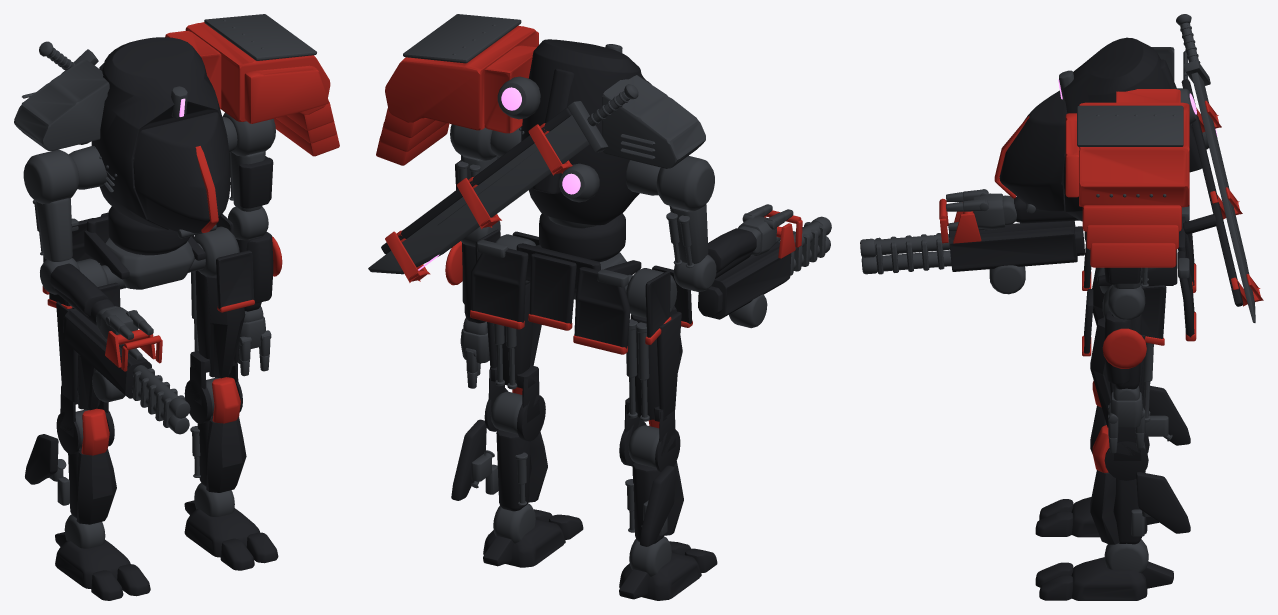
Rendered from Titan_L2.fbx.
3 renders of one model, left to right at view 1: azimuth 30°, elevation 25°; view 2: azimuth 150°, elevation 25°; view 3: azimuth 270°, elevation 25°, orthographic. The views are drawn at different scales.
Visible parts, largest first — view 1: L2_Torso_Upper, L2_Hatch, L2_Pauldron_L, L2_Shoulder_Cap_R, L2_Pauldron_Trim_L, L2_Pelvis, L2_Shotgun_Body, L2_Shin_Plate_R, L2_Shin_Plate_L, L2_UpperArm_Hub_R, L2_Thigh_Plate_L, L2_Waist (+40 smaller); view 2: L2_Skirt_Back, L2_Pauldron_L, L2_Torso_Upper, L2_Sword_Blade, L2_Shoulder_Cap_R, L2_Shotgun_Body, L2_Pauldron_Trim_L, L2_Waist, L2_Rack_Clamps, L2_UpperArm_Hub_R, L2_Pauldron_Lames_L, L2_Thigh_Clevis_L (+49 smaller); view 3: L2_Pauldron_L, L2_Pauldron_Lames_L, L2_Hatch, L2_Shotgun_Body, L2_Torso_Upper, L2_Pauldron_Trim_L, L2_Foot_L, L2_Sword_Blade, L2_Shotgun_Barrels, L2_Rack, L2_Calf_Blade_L, L2_Thigh_Clevis_L (+27 smaller).
Part boxes in pixels (x1=…): L2_Torso_Upper: x1=91, y1=37, x2=227, y2=229; L2_Hatch: x1=133, y1=112, x2=230, y2=233; L2_Pauldron_L: x1=165, y1=22, x2=330, y2=123; L2_Shoulder_Cap_R: x1=14, y1=60, x2=109, y2=150; L2_Pauldron_Trim_L: x1=204, y1=14, x2=316, y2=60; L2_Pelvis: x1=102, y1=238, x2=205, y2=289; L2_Shotgun_Body: x1=63, y1=308, x2=151, y2=398; L2_Shin_Plate_R: x1=76, y1=449, x2=116, y2=524; L2_Shin_Plate_L: x1=206, y1=417, x2=246, y2=492; L2_UpperArm_Hub_R: x1=23, y1=149, x2=78, y2=204; L2_Thigh_Plate_L: x1=206, y1=275, x2=245, y2=378; L2_Waist: x1=108, y1=206, x2=190, y2=255; L2_Skirt_Back: x1=471, y1=248, x2=630, y2=348; L2_Pauldron_L: x1=385, y1=25, x2=538, y2=133; L2_Torso_Upper: x1=521, y1=39, x2=648, y2=225; L2_Sword_Blade: x1=368, y1=115, x2=589, y2=274; L2_Shoulder_Cap_R: x1=602, y1=75, x2=705, y2=168; L2_Shotgun_Body: x1=698, y1=242, x2=791, y2=319; L2_Pauldron_Trim_L: x1=403, y1=14, x2=521, y2=63; L2_Waist: x1=539, y1=213, x2=625, y2=262; L2_Rack_Clamps: x1=385, y1=123, x2=572, y2=282; L2_UpperArm_Hub_R: x1=656, y1=155, x2=714, y2=211; L2_Pauldron_Lames_L: x1=376, y1=108, x2=449, y2=165; L2_Thigh_Clevis_L: x1=484, y1=365, x2=545, y2=441; L2_Pauldron_L: x1=1065, y1=89, x2=1189, y2=207; L2_Pauldron_Lames_L: x1=1082, y1=205, x2=1181, y2=267; L2_Hatch: x1=999, y1=90, x2=1067, y2=211; L2_Shotgun_Body: x1=949, y1=221, x2=1084, y2=271; L2_Torso_Upper: x1=1063, y1=37, x2=1171, y2=221; L2_Pauldron_Trim_L: x1=1077, y1=105, x2=1183, y2=146; L2_Foot_L: x1=1071, y1=557, x2=1147, y2=600; L2_Sword_Blade: x1=1191, y1=72, x2=1255, y2=322; L2_Shotgun_Barrels: x1=860, y1=234, x2=951, y2=274; L2_Rack: x1=1181, y1=79, x2=1243, y2=306; L2_Calf_Blade_L: x1=1136, y1=472, x2=1190, y2=533; L2_Thigh_Clevis_L: x1=1104, y1=428, x2=1149, y2=480.
Size of the model in its own units: 3.54 by 5.87 by 4.24.
